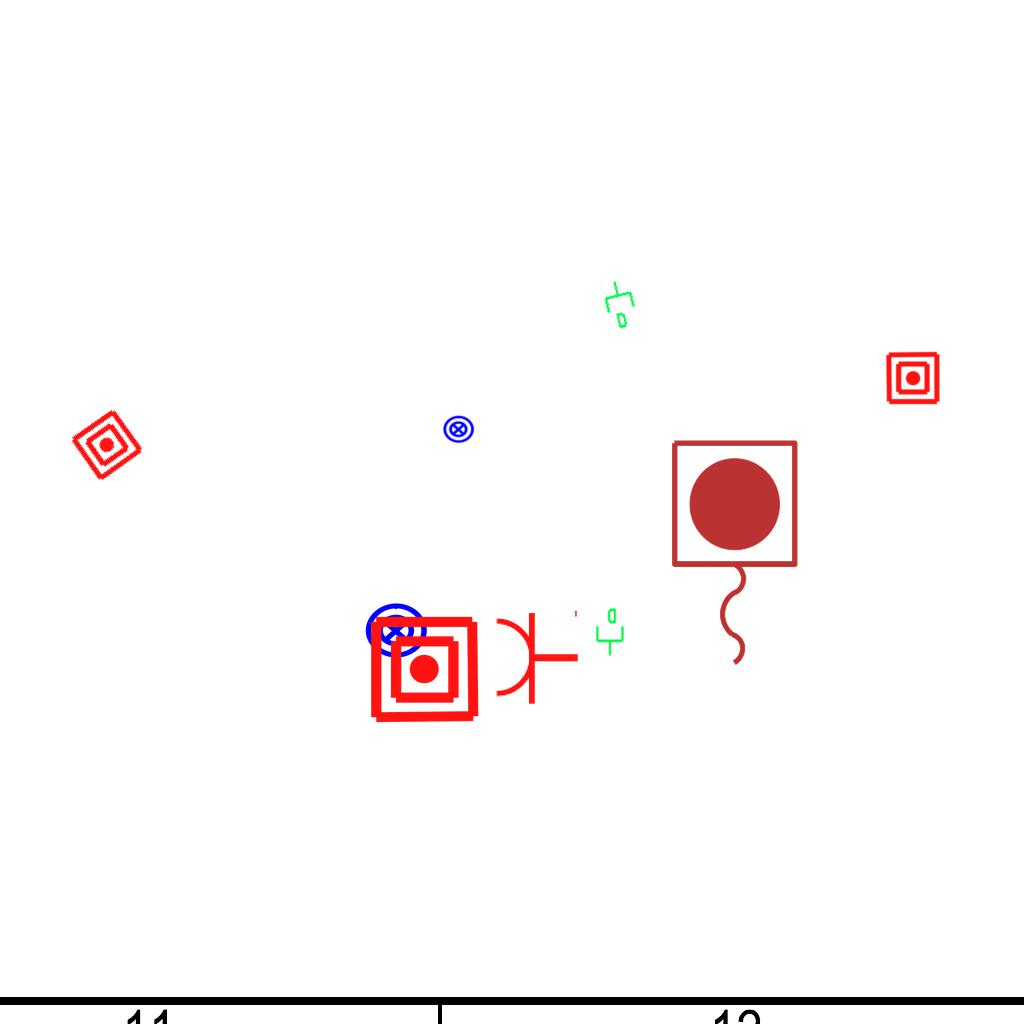Datenanschluss_einfach: (598, 275, 644, 333), (592, 607, 626, 657)
NAM-Nichtautomatischer_Melder: (368, 613, 481, 726), (68, 406, 146, 484), (885, 350, 941, 406)
Schukosteckdose_einfach: (493, 606, 580, 706)
Taster_beleuchtet: (363, 598, 429, 664), (442, 413, 475, 446)
Zugtaster: (661, 432, 805, 676)
